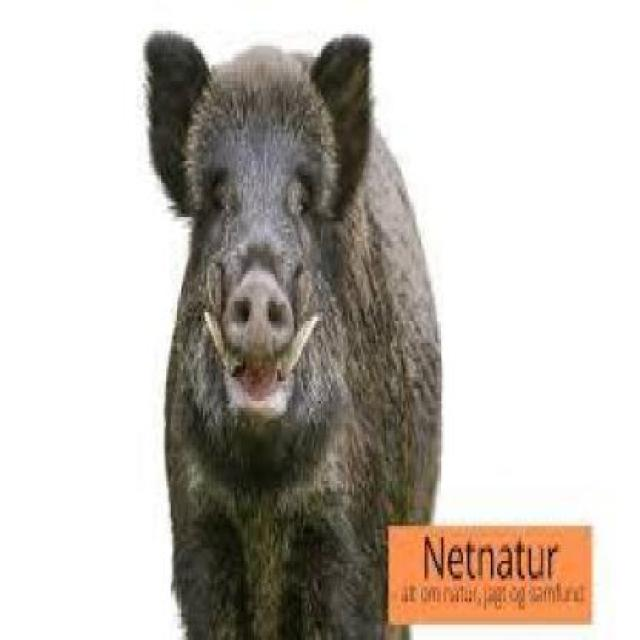wildboar: (141, 24, 443, 640)
